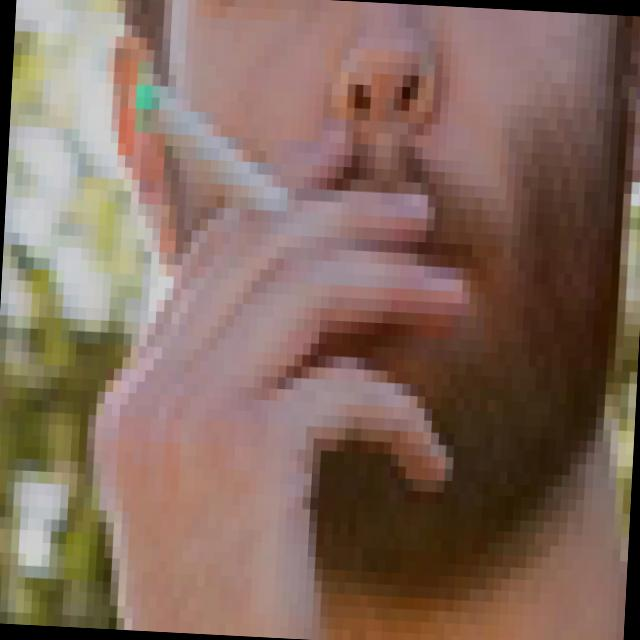cigarette: (115, 61, 314, 234)
